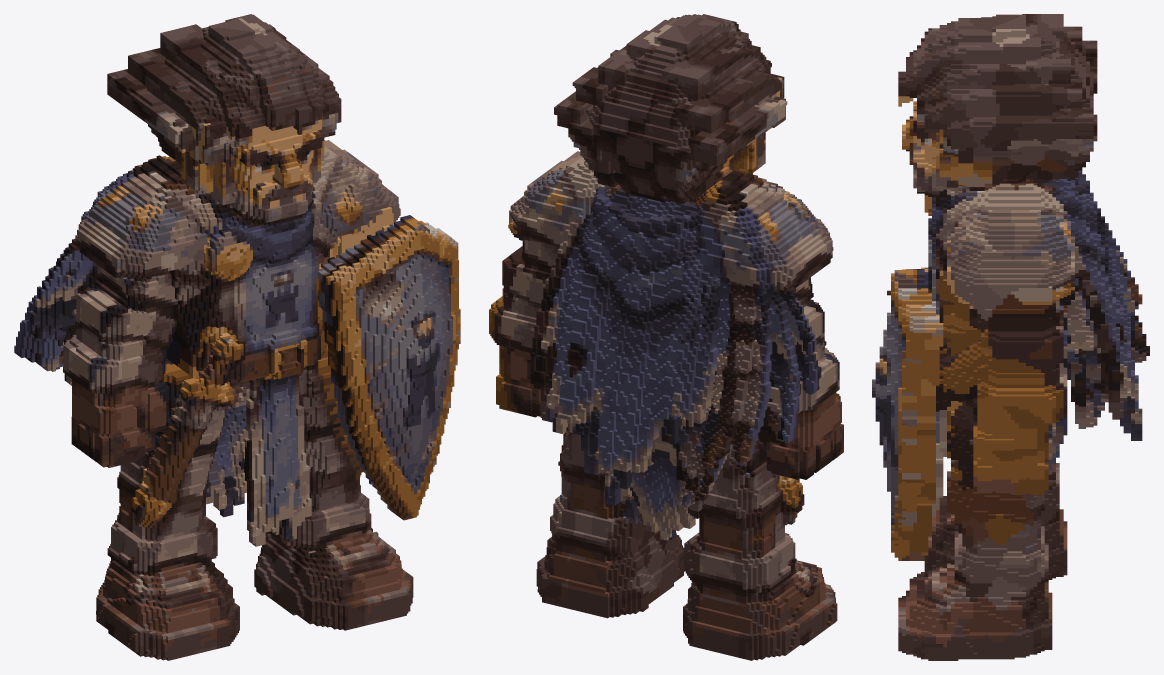
Rendered from aldric-voxel.glb.
3 views of the same model, side by side, from view 1: azimuth 30°, elevation 25°; view 2: azimuth 150°, elevation 25°; view 3: azimuth 270°, elevation 25° (orthographic).
Parts seen in each view (by area): view 1: Aldric; view 2: Aldric; view 3: Aldric.
Boxes of the visible parts, x1,y1,x2,y2 form: Aldric: [14, 14, 460, 660]; Aldric: [489, 14, 843, 660]; Aldric: [872, 14, 1149, 660].
Size of the model in its own units: 1.14 by 1.81 by 0.7964.
